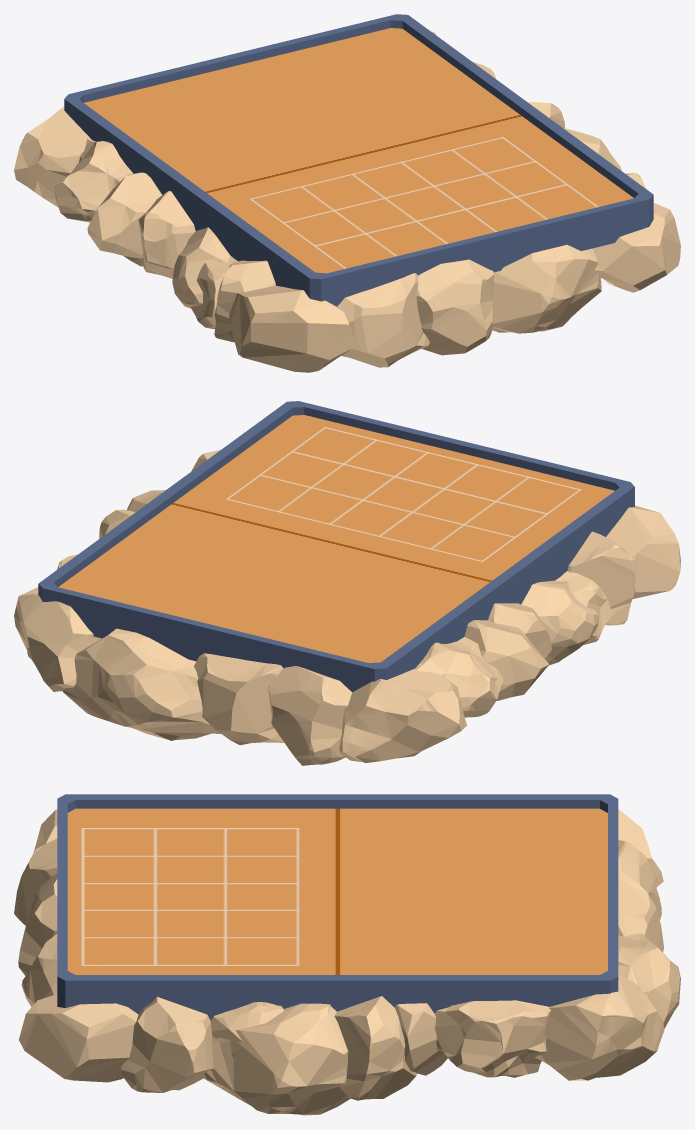
The model's file is battle_arenafull.fbx.
3 views of the same model, one above another, from view 1: azimuth 30°, elevation 25°; view 2: azimuth 150°, elevation 25°; view 3: azimuth 270°, elevation 25° (orthographic). The views are drawn at different scales.
Visible parts, largest first — view 1: polySurface1, pPlane20; view 2: polySurface1, pPlane20; view 3: polySurface1, pPlane20.
Part boxes in pixels (x1,y1,x2,y2): polySurface1: (14, 14, 680, 372); pPlane20: (84, 28, 633, 273); polySurface1: (14, 401, 680, 765); pPlane20: (58, 415, 614, 662); polySurface1: (14, 794, 680, 1115); pPlane20: (67, 808, 607, 974).
Bounding box in the file's own units: 8.79 × 2.09 × 9.66.
